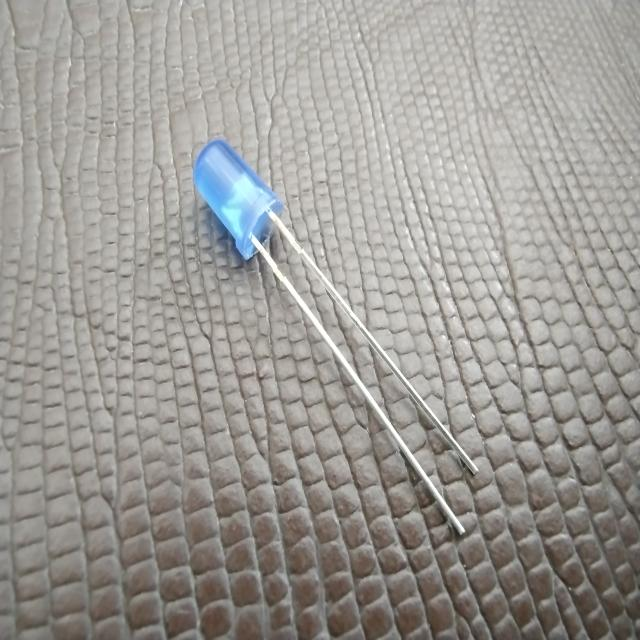blue_led: (192, 137, 284, 262)
